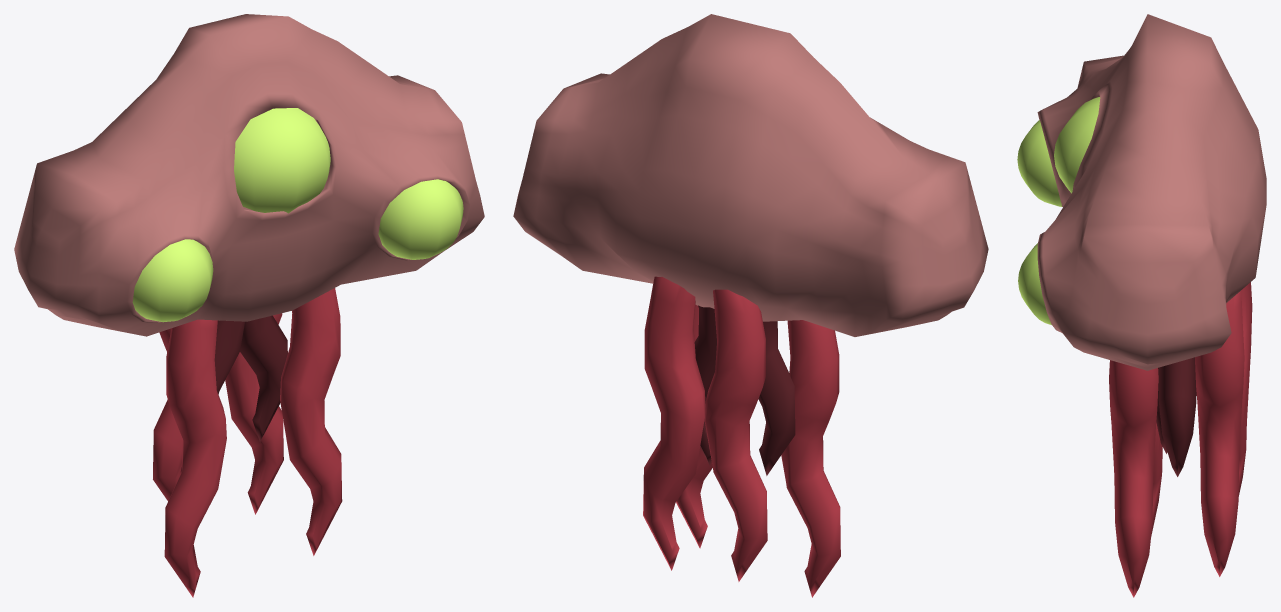
The model's file is Antagonista_3.glb.
The picture shows the model from 3 angles, left to right: view 1: azimuth 30°, elevation 25°; view 2: azimuth 150°, elevation 25°; view 3: azimuth 270°, elevation 25°; orthographic projection.
Visible parts, largest first — view 1: Esfera.003; view 2: Esfera.003; view 3: Esfera.003.
Boxes of the visible parts, box(x1,y1,x2,y2) form: Esfera.003: box(14, 14, 484, 597); Esfera.003: box(513, 14, 988, 597); Esfera.003: box(1017, 14, 1266, 597).
Size of the model in its own units: 4.28 by 5.15 by 2.1.
